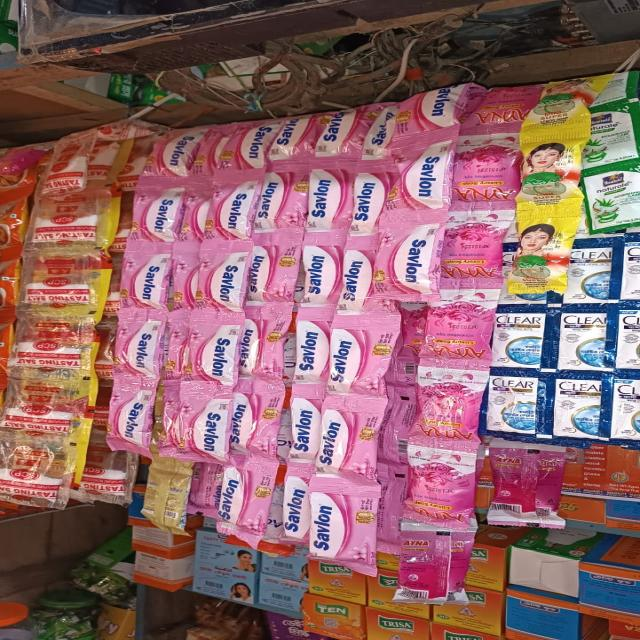non-ubl: (368, 206, 455, 299), (276, 388, 327, 544), (107, 322, 165, 453), (326, 308, 402, 390), (313, 392, 384, 477), (305, 483, 373, 561), (167, 384, 230, 465), (192, 225, 248, 314), (218, 457, 275, 544), (118, 232, 170, 314), (577, 107, 638, 176), (396, 141, 455, 209), (400, 86, 480, 134), (245, 380, 286, 460), (344, 106, 390, 170), (274, 170, 318, 234), (198, 323, 243, 383), (215, 179, 259, 240), (263, 238, 303, 302), (291, 321, 330, 385), (303, 170, 344, 230), (140, 188, 185, 242), (591, 170, 630, 232), (265, 114, 313, 164), (347, 171, 386, 232), (300, 245, 338, 305), (156, 130, 204, 176), (236, 122, 280, 170), (124, 321, 162, 376), (253, 172, 287, 232), (339, 250, 374, 306), (216, 466, 243, 525)
ubl: (548, 371, 608, 446), (560, 235, 615, 309), (490, 370, 540, 440), (554, 308, 610, 369), (488, 310, 546, 367), (604, 364, 640, 444), (613, 310, 640, 369)
